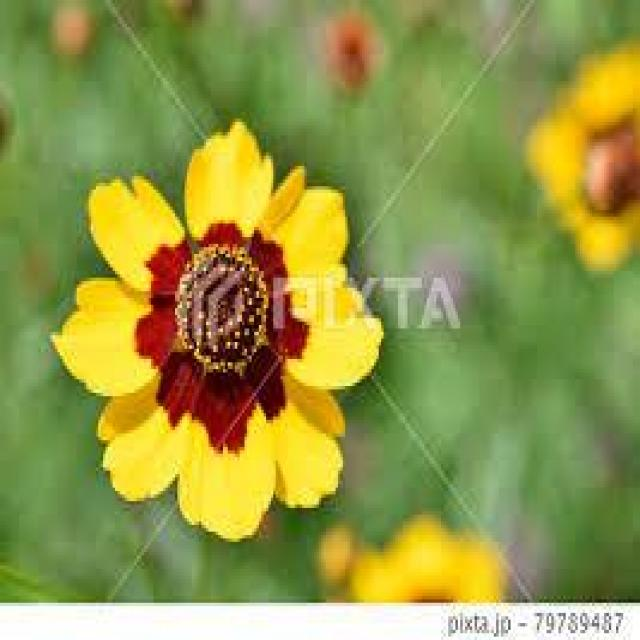organic waste: (80, 115, 370, 532)
